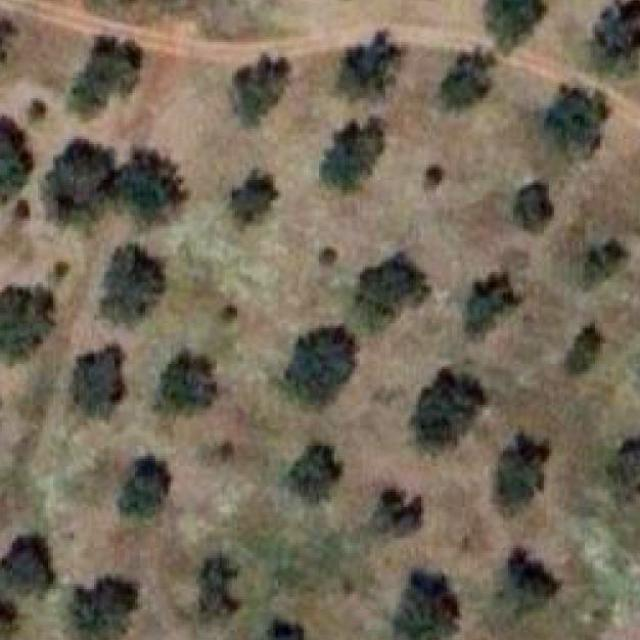Tree: (407, 369, 485, 455), (280, 323, 357, 409), (94, 246, 168, 330), (70, 37, 140, 124), (64, 337, 130, 422), (108, 163, 187, 232), (536, 85, 608, 158), (54, 137, 110, 229), (316, 117, 385, 191), (351, 244, 416, 322), (391, 565, 457, 640), (489, 432, 547, 516), (152, 349, 219, 420), (226, 50, 293, 120), (0, 282, 59, 360), (116, 449, 172, 527), (66, 576, 132, 640), (587, 0, 640, 79), (493, 546, 552, 616), (336, 37, 398, 101), (438, 47, 495, 112), (458, 275, 516, 335), (485, 0, 551, 52), (285, 443, 341, 501), (189, 558, 237, 625), (0, 536, 50, 598), (371, 486, 423, 538), (576, 242, 626, 296), (0, 114, 31, 200), (227, 173, 273, 229), (560, 321, 602, 375), (508, 180, 551, 232), (613, 425, 640, 500), (0, 594, 23, 640), (0, 14, 18, 70), (267, 617, 306, 640), (11, 198, 40, 227), (27, 96, 50, 128), (308, 244, 334, 271), (48, 255, 71, 285), (218, 303, 242, 327), (215, 439, 237, 463), (421, 165, 441, 189)
